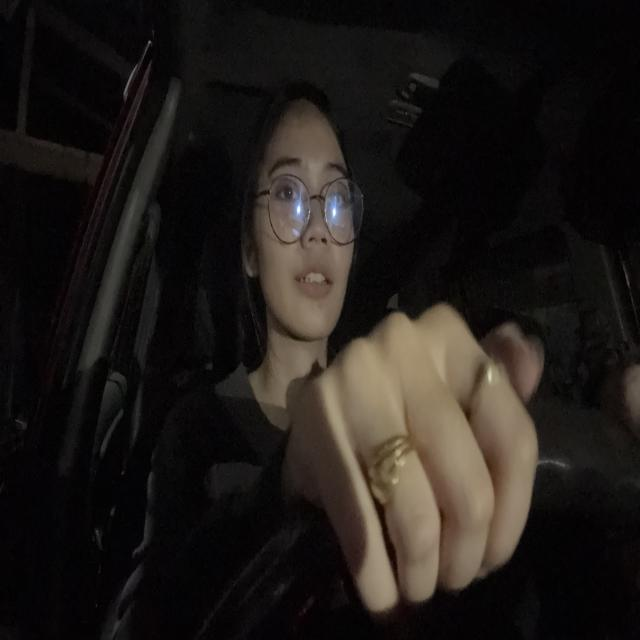open: (265, 147, 307, 214), (322, 152, 352, 223)
